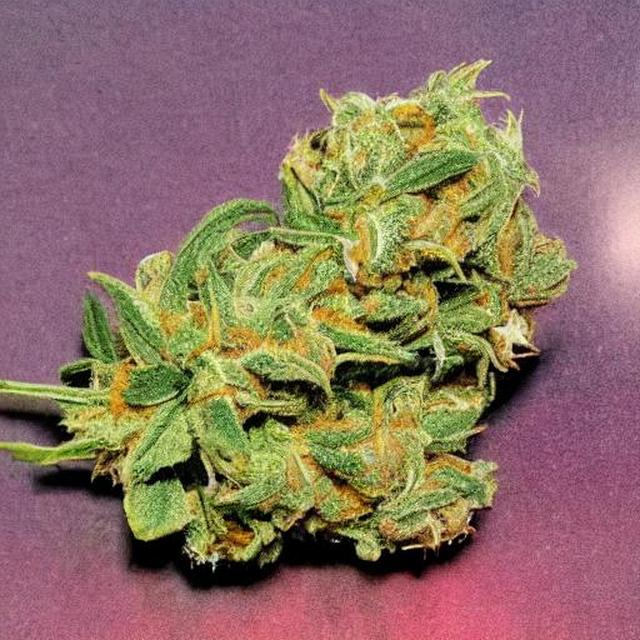Marijuana Plant: (214, 46, 640, 639)
